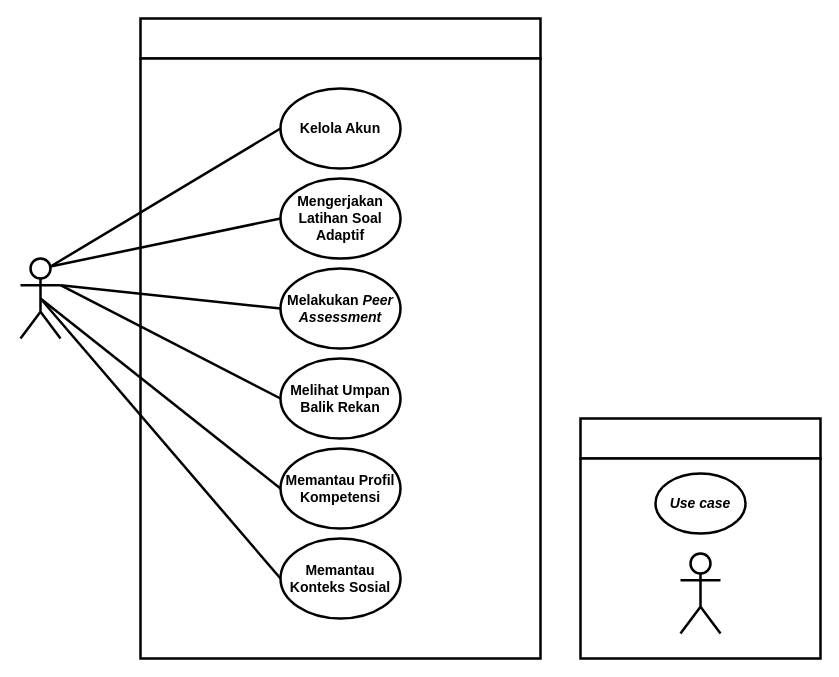
Some shapes in this 839 by 677 pixel diagram are drawn without their labels. The shapes that lost their labels are listed below. From the top down, each one's centre as x and y in pixels, then its label:
At pixel 340 38: "Sistem".
At pixel 40 298: "Pelajar".
At pixel 700 438: "Legenda".
At pixel 700 593: "Aktor".
